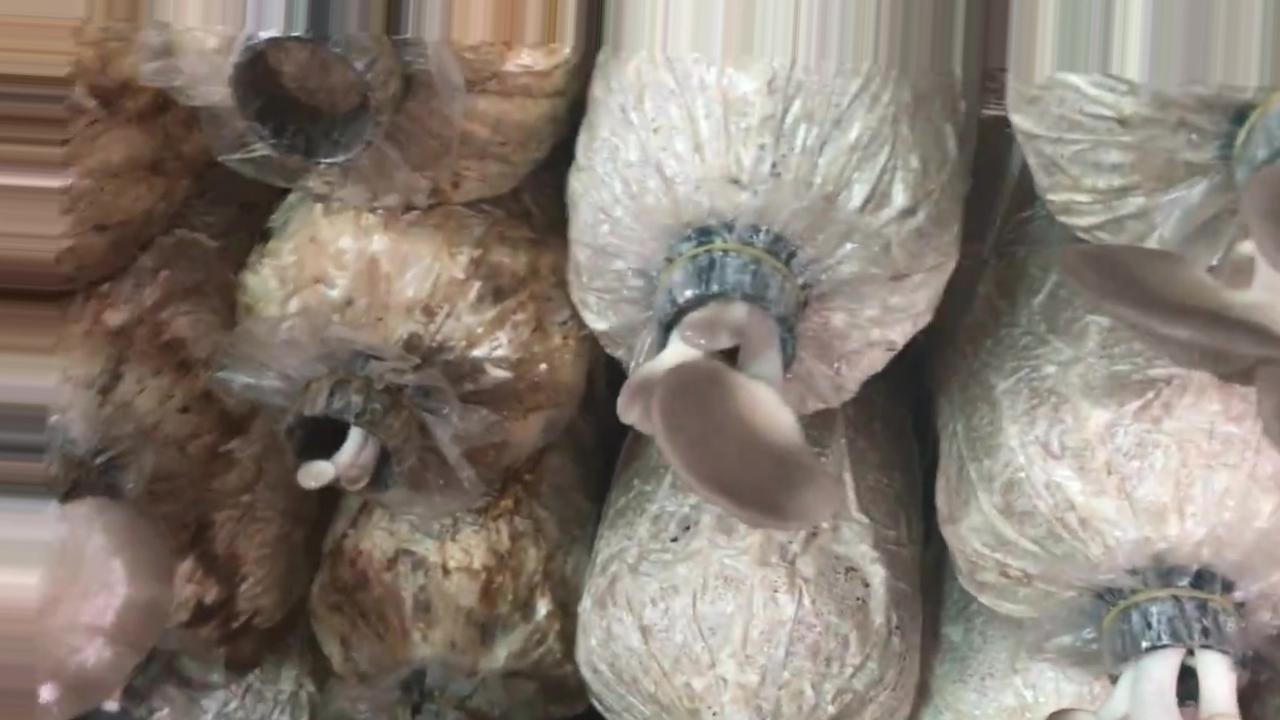nam: (1064, 162, 1280, 449), (620, 253, 838, 532), (284, 377, 411, 495)
